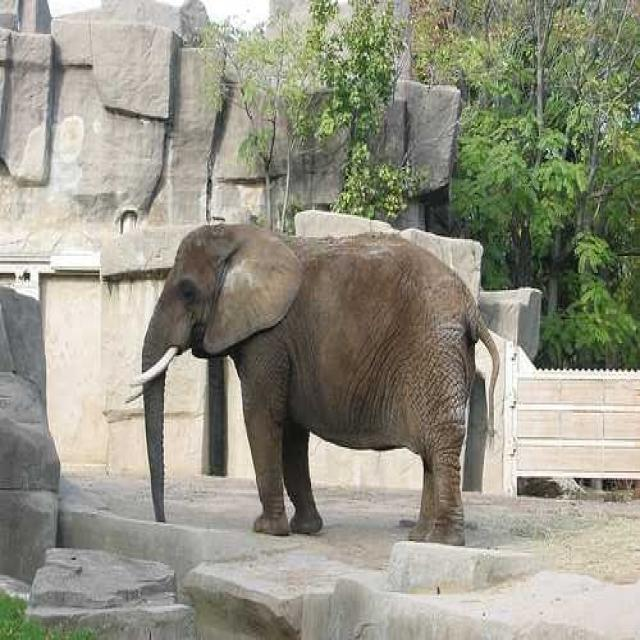Elephant: (123, 220, 499, 546)
